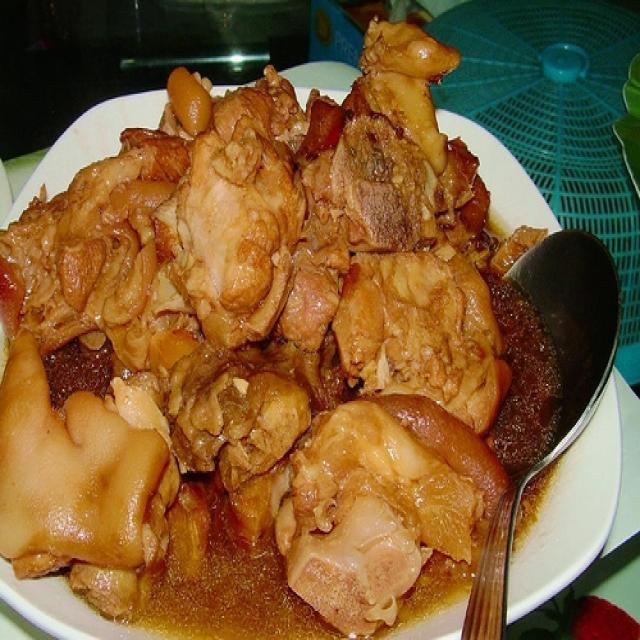猪肉菜式: (9, 6, 608, 636)
